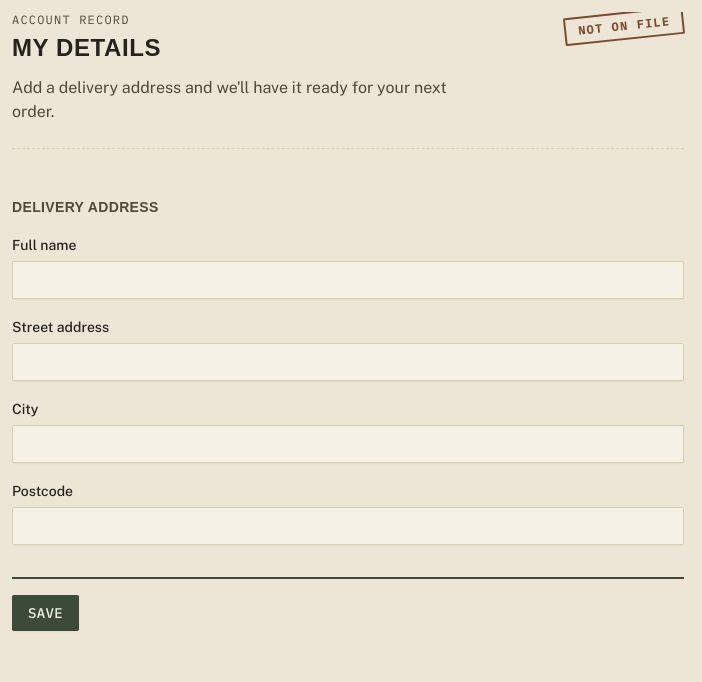
Scenario: MyDetailsForm › shows an inline error message when the save request fails
Type "Ada Lovelace" into the field labelled "Full name" at point(348, 280), box 12,261 -> 684,299
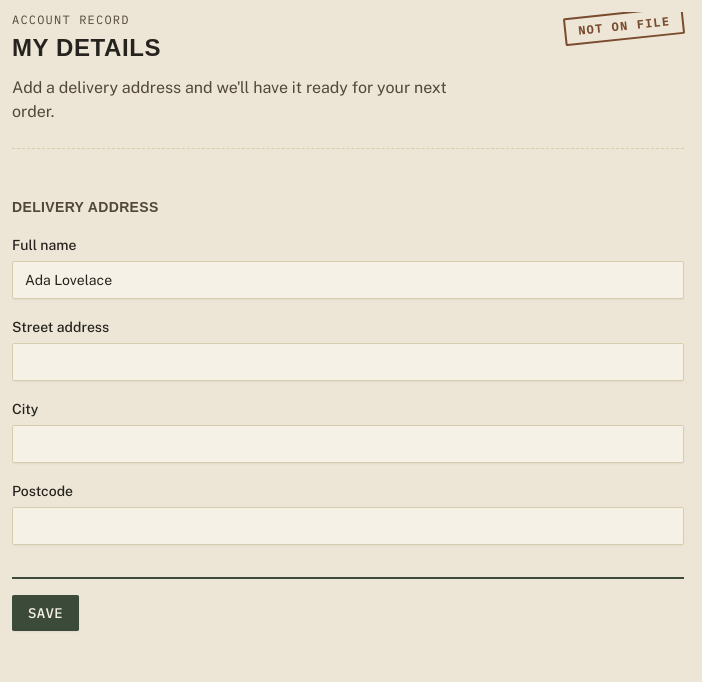
Type "12 Analytical Engine Ave" into the field labelled "Street address" at point(348, 362), box 12,343 -> 684,381
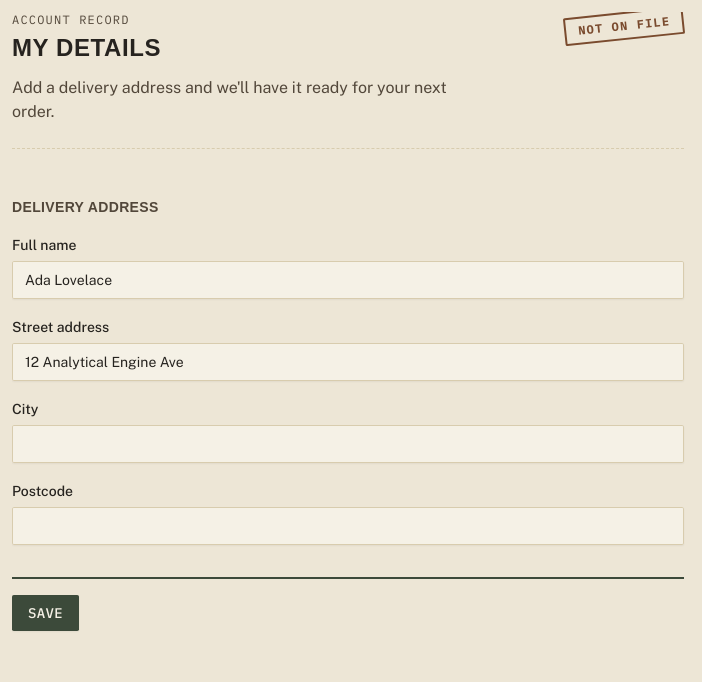
Type "London" into the field labelled "City" at point(348, 444), box 12,425 -> 684,463
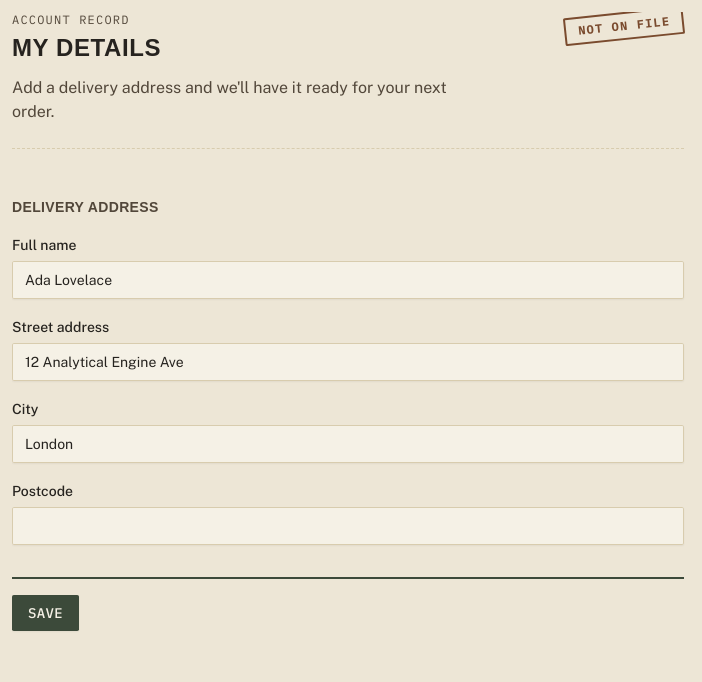
Type "SW1A 2AA" into the field labelled "Postcode" at point(348, 526), box 12,507 -> 684,545
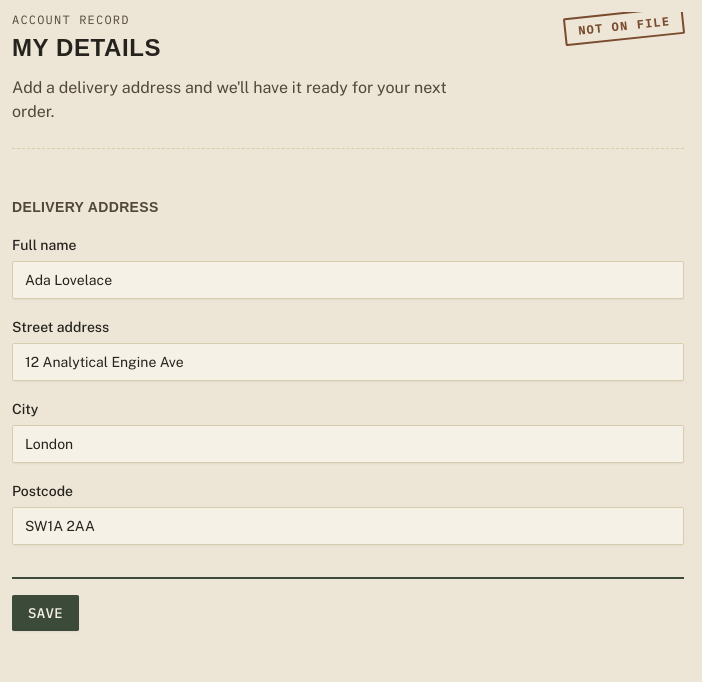
Click the button "Save" at point(46, 613), box 12,595 -> 79,631
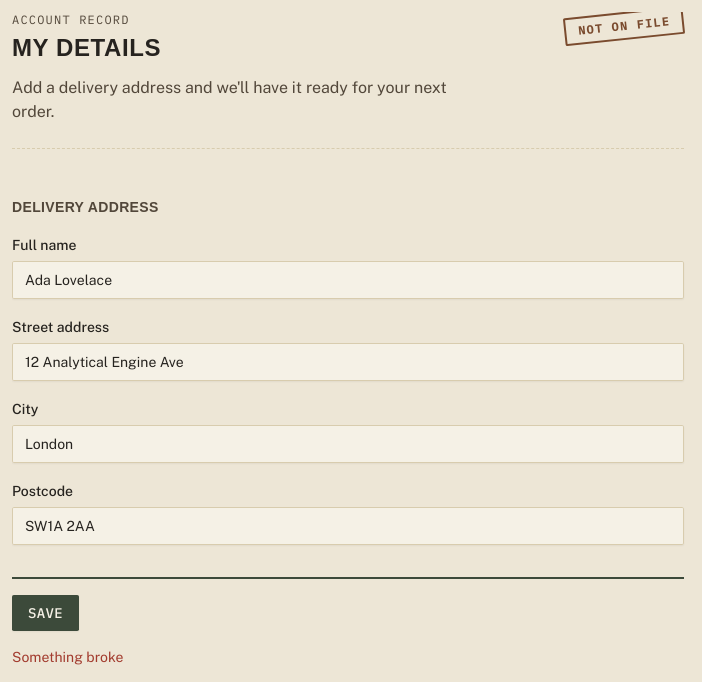
Expected: the text "Something broke" is shown, 12,649 -> 123,665
